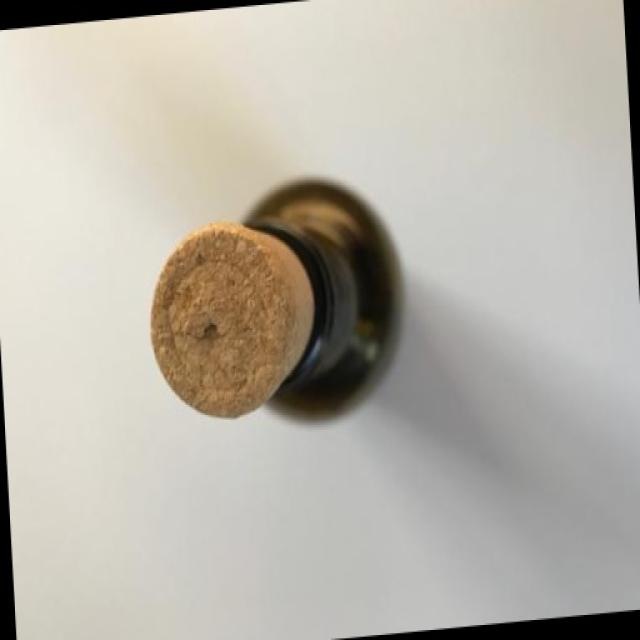vidrio: (116, 110, 466, 510)
